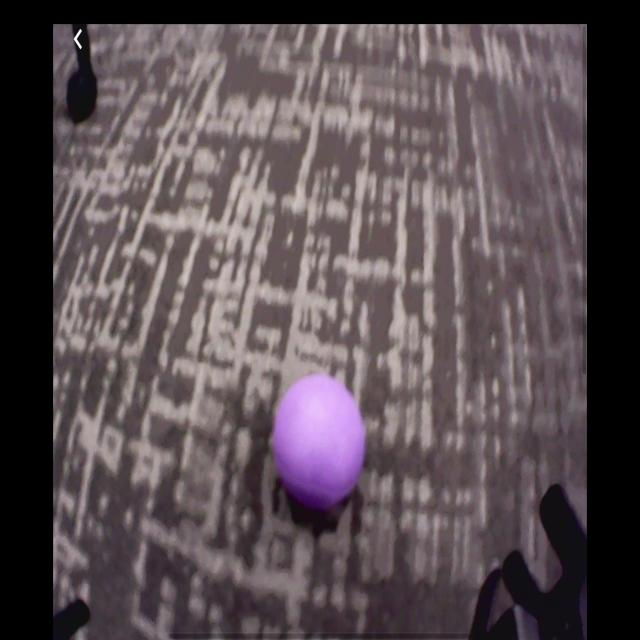ball: (273, 374, 367, 508)
